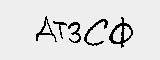Д: (34, 15, 58, 46)
З: (68, 19, 84, 46)
С: (84, 15, 108, 47)
Т: (51, 19, 68, 40)
Ф: (110, 15, 133, 50)
